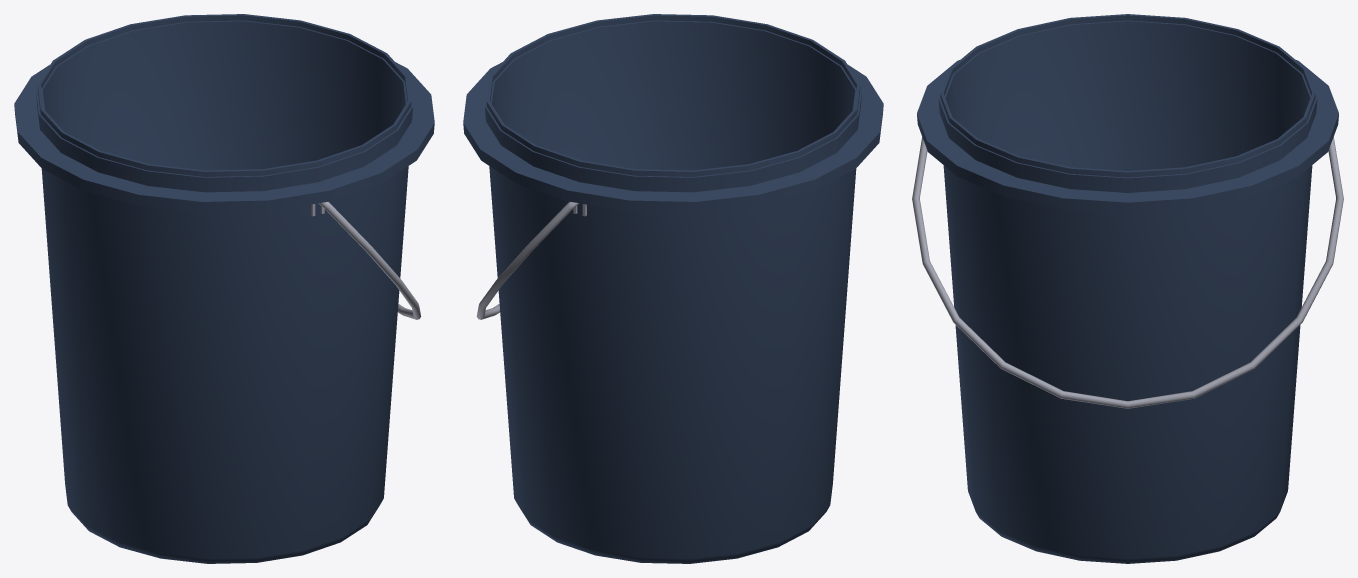
The model's file is SM_bucket.fbx.
3 views of the same model, side by side, from view 1: azimuth 30°, elevation 25°; view 2: azimuth 150°, elevation 25°; view 3: azimuth 270°, elevation 25° (orthographic).
Visible parts, largest first — view 1: bucket; view 2: bucket; view 3: bucket.
Part boxes in pixels (x1=…): bucket: x1=14, y1=14, x2=434, y2=563; bucket: x1=463, y1=14, x2=883, y2=563; bucket: x1=912, y1=14, x2=1343, y2=563.
Size of the model in its own units: 35.31 by 37.6 by 36.11.
